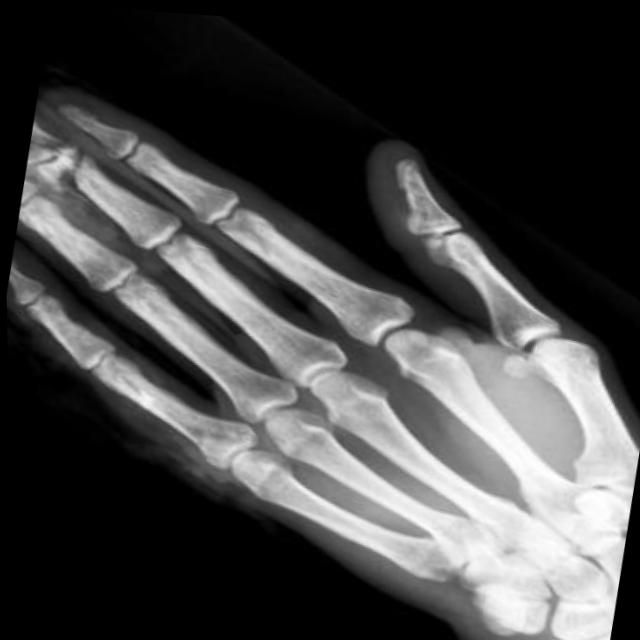fracture: (28, 127, 99, 204)
